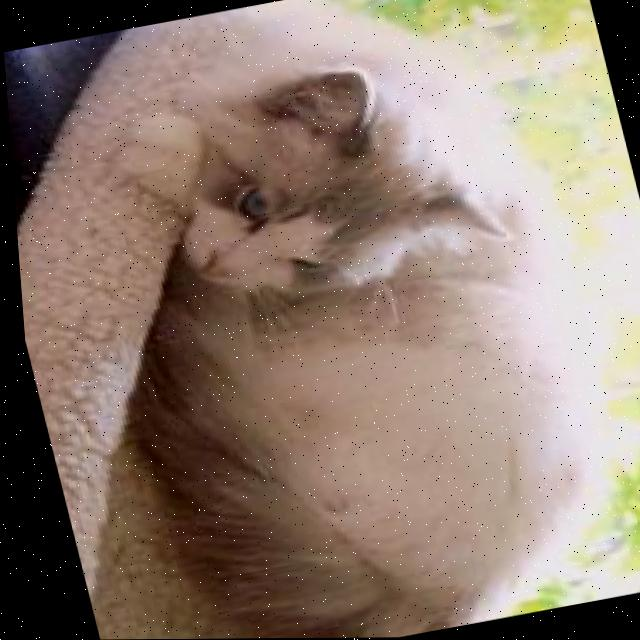Ragdoll: (23, 0, 640, 640)
